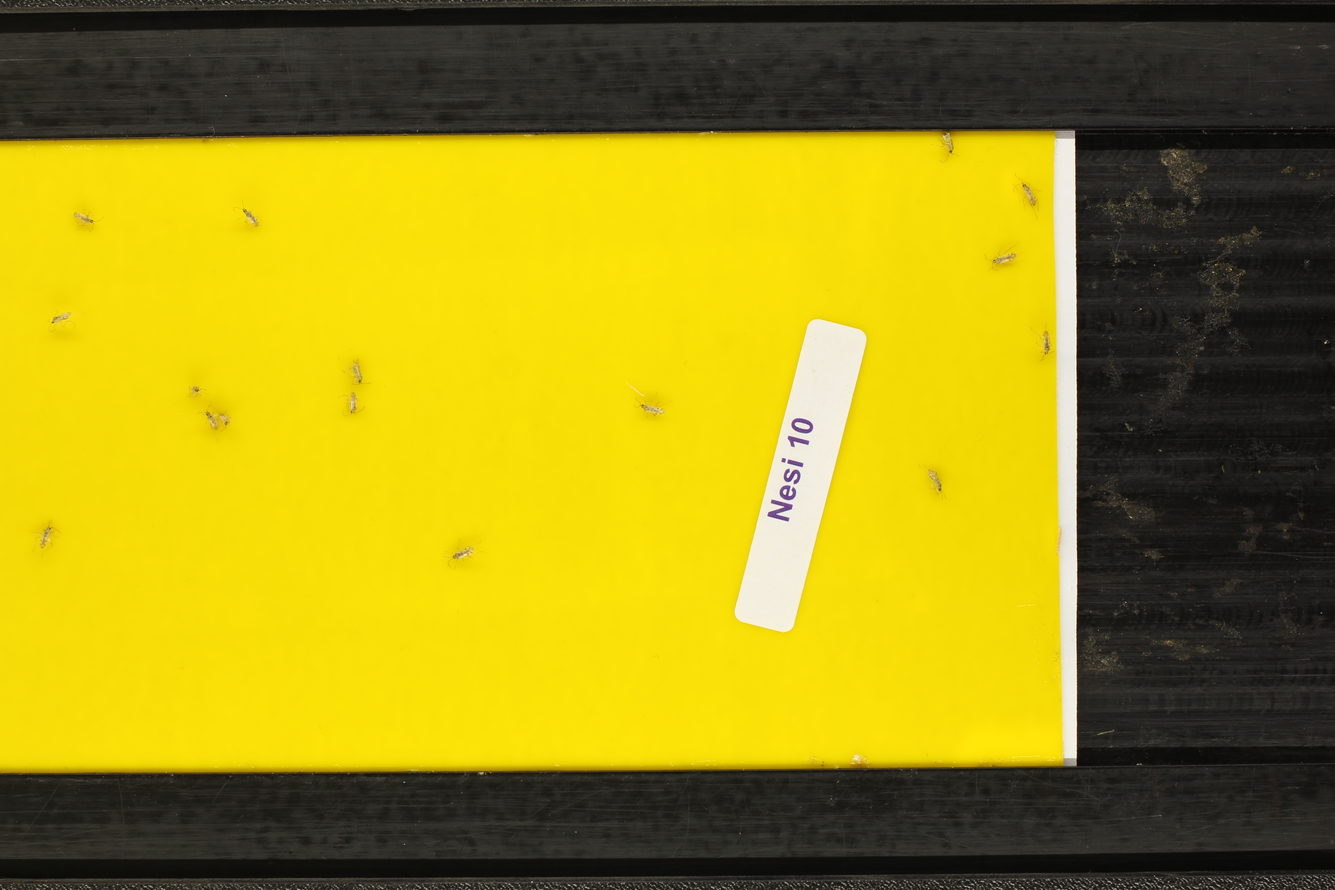NC: (1011, 171, 1048, 222), (913, 455, 952, 502), (1028, 317, 1059, 367), (30, 516, 65, 560), (630, 391, 671, 424), (933, 130, 966, 167), (982, 243, 1023, 271), (446, 538, 483, 569), (65, 206, 103, 233), (47, 309, 84, 334), (232, 201, 263, 230), (339, 357, 369, 385), (342, 389, 364, 421), (198, 407, 220, 435)
